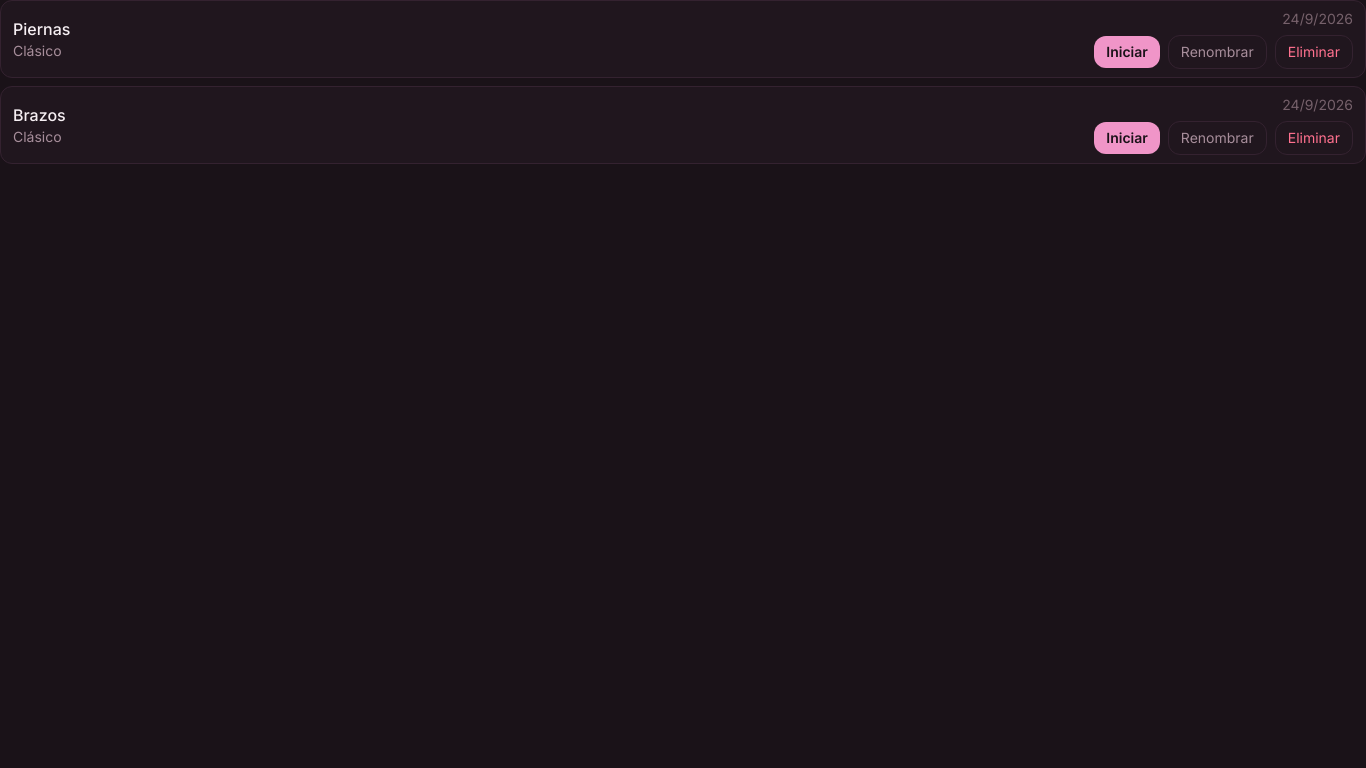
RoutinesScreen — eliminar (spec: Delete removes only the routine) › pide confirmación; cancelar conserva, confirmar elimina SOLO esa rutina
Step 1. Click the button "Eliminar" in the row of "Piernas" → [1314, 52], box [1275,35,1353,69]
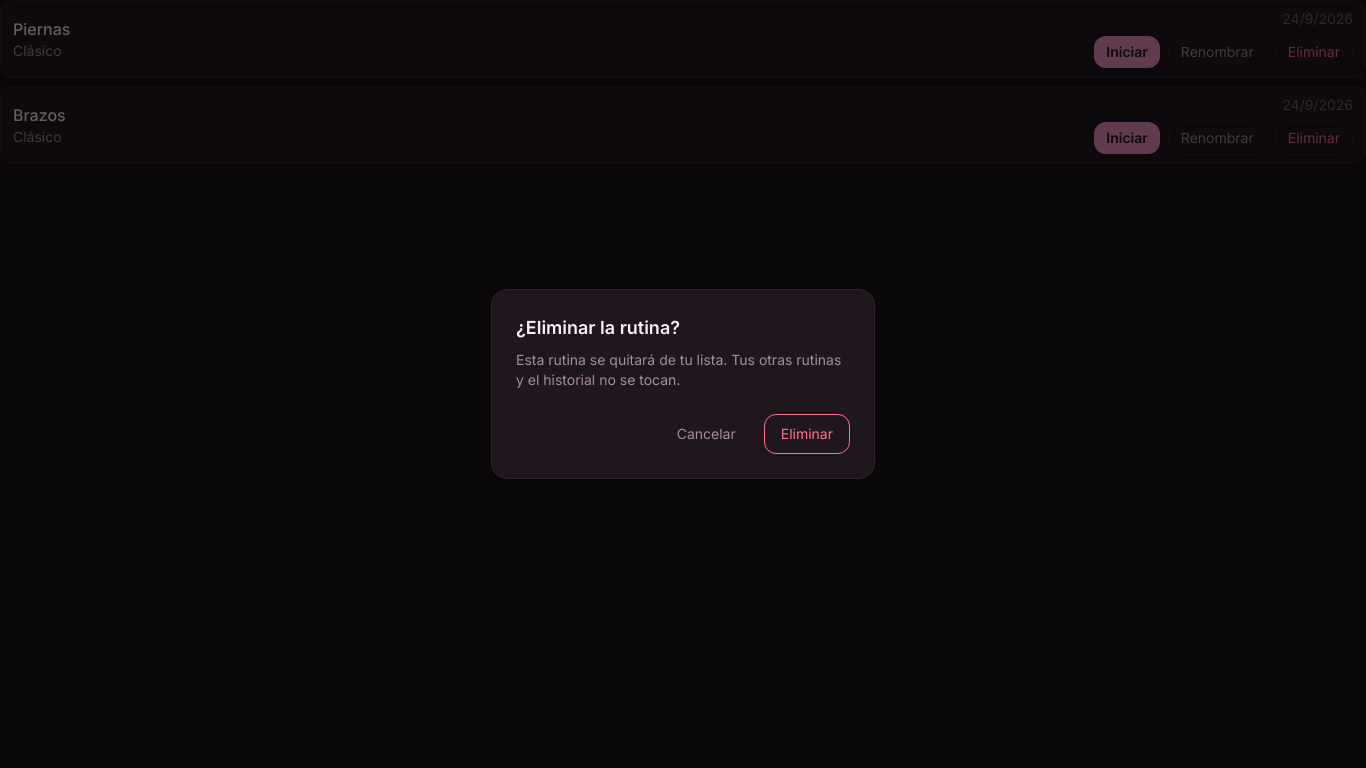
expect the heading "¿Eliminar la rutina?" is shown: met, box [516,317,680,338]
// Cancelar: nada cambia.
Step 2. Click the button "Cancelar" → [706, 434], box [661,414,752,454]
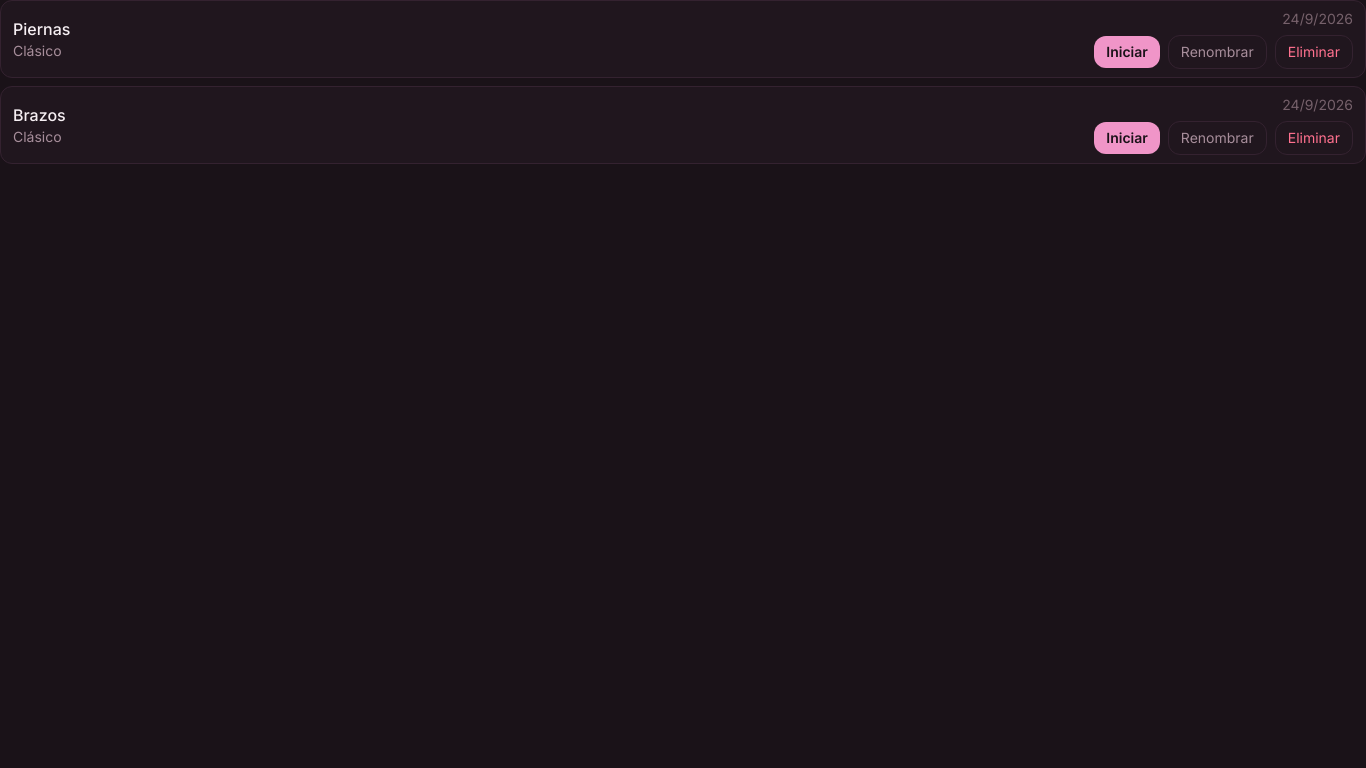
expect the text "Piernas" is shown: met, box [13,17,70,41]
expect the dialog is gone: met
Step 3. Click the button "Eliminar" in the row of "Piernas" → [1314, 52], box [1275,35,1353,69]
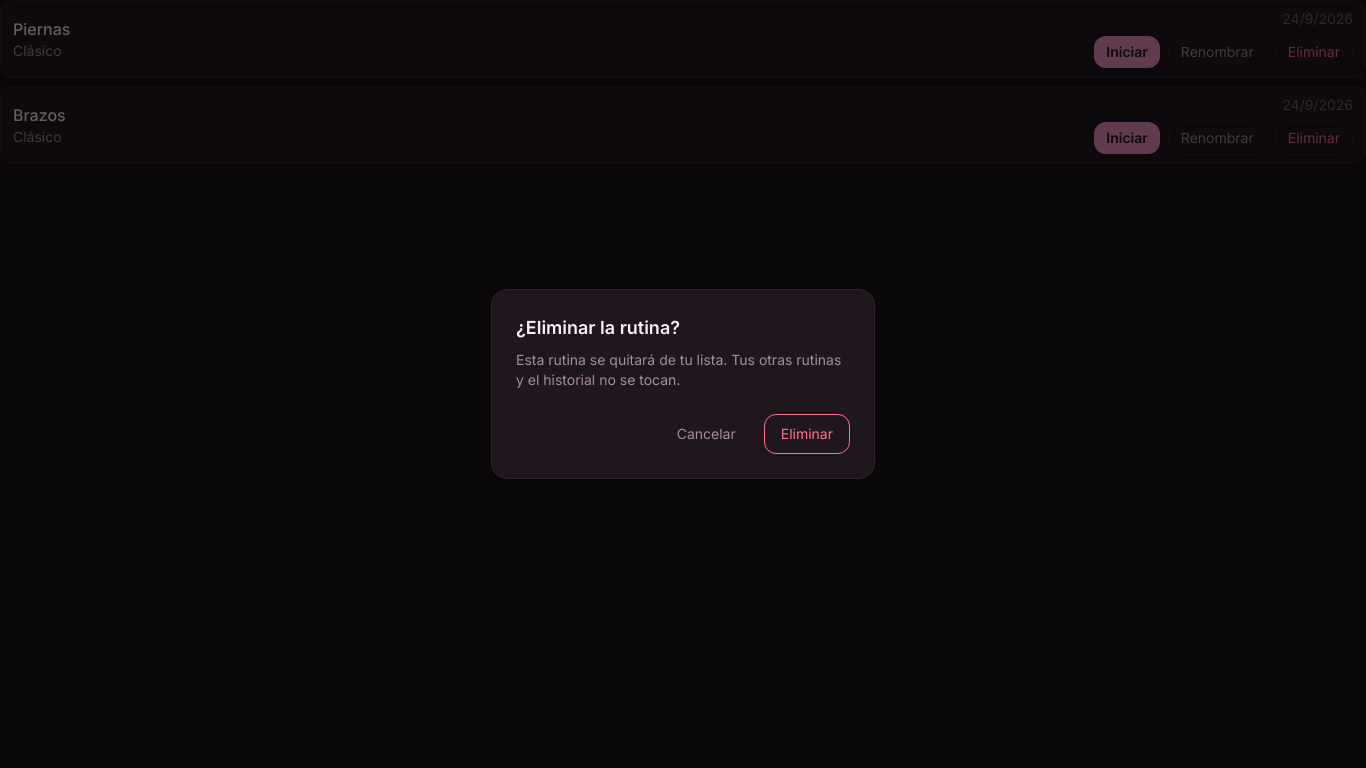
Step 4. Click the button "Eliminar" → [807, 434], box [764,414,850,454]
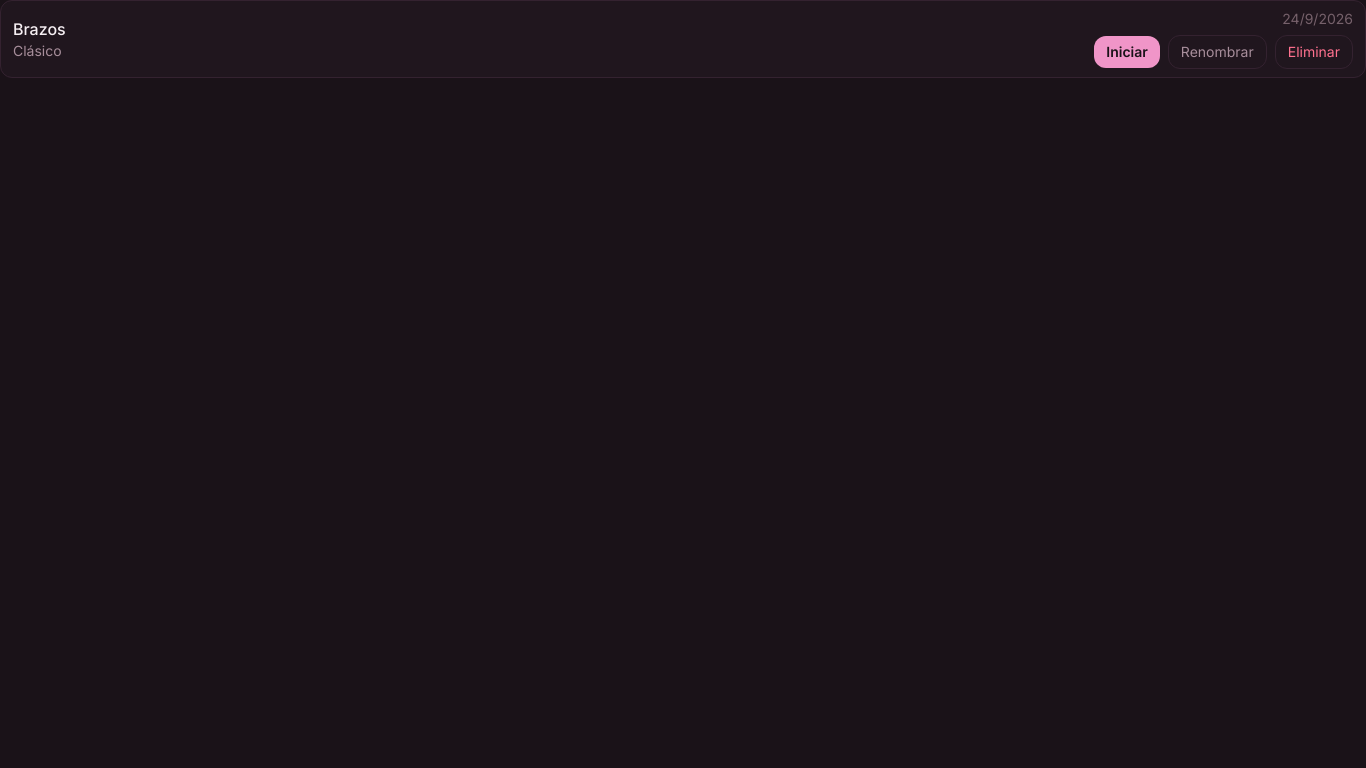
expect the text "Brazos" is shown: met, box [13,17,66,41]
expect the text "Piernas" is gone: met
